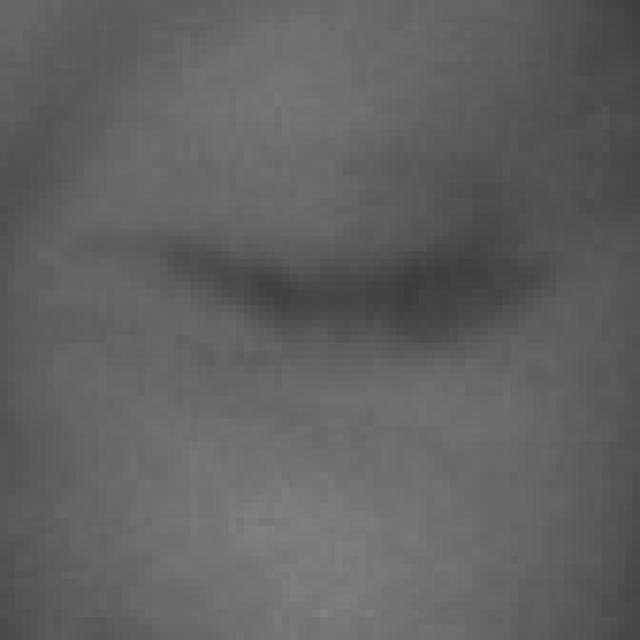Eyeclosed: (142, 79, 542, 492)
